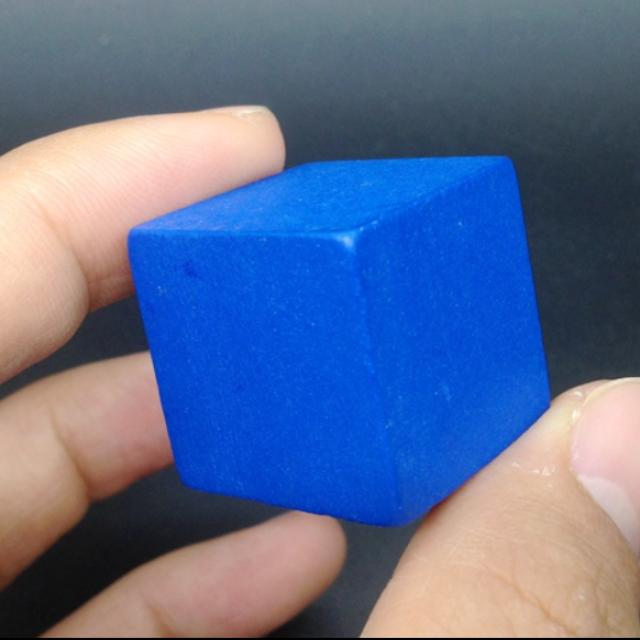bluecube: (125, 156, 552, 530)
